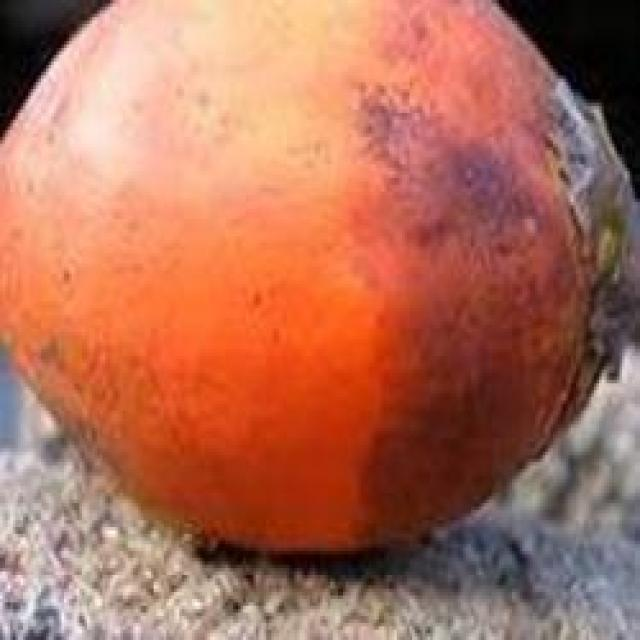good: (0, 0, 637, 561)
